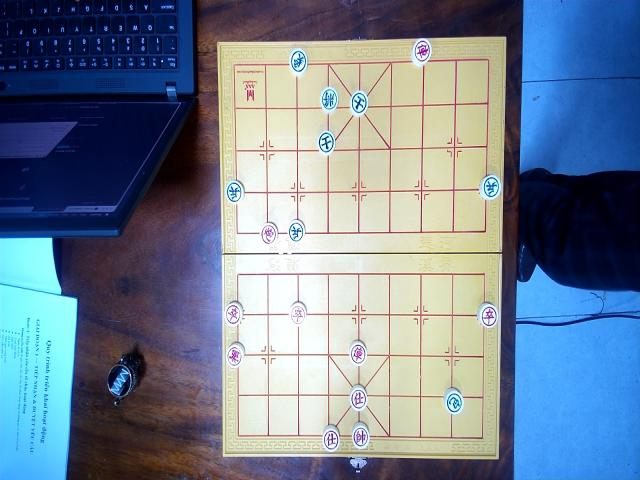piece: (410, 38, 432, 68), (476, 301, 498, 328), (478, 173, 500, 200), (443, 387, 463, 415), (350, 422, 370, 449), (322, 425, 341, 452), (289, 48, 308, 75), (226, 342, 245, 368), (349, 384, 367, 411), (225, 179, 244, 204), (225, 300, 243, 326), (348, 339, 366, 365), (350, 88, 368, 114), (318, 129, 336, 155), (320, 86, 338, 111), (290, 300, 306, 325), (288, 219, 304, 242), (260, 222, 276, 244)
